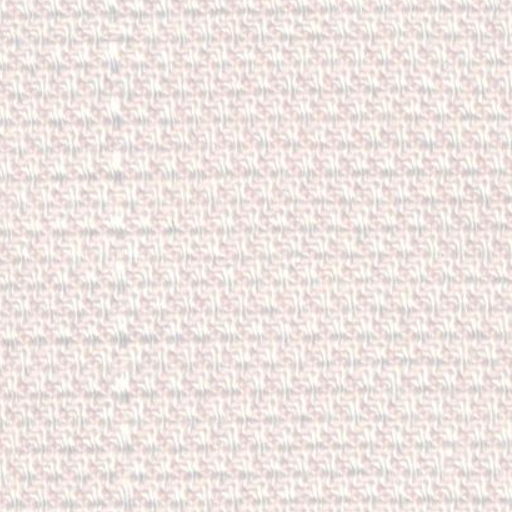TuoSha: (62, 23, 188, 490)
